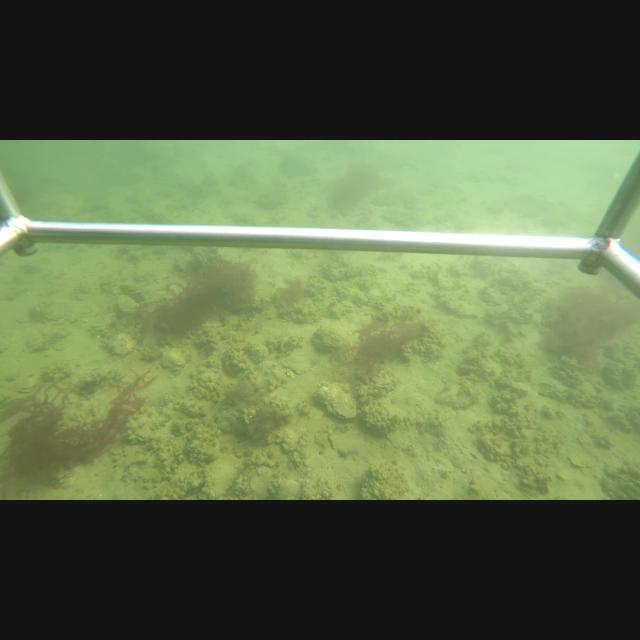Oyster-Closed: (309, 380, 360, 422)
